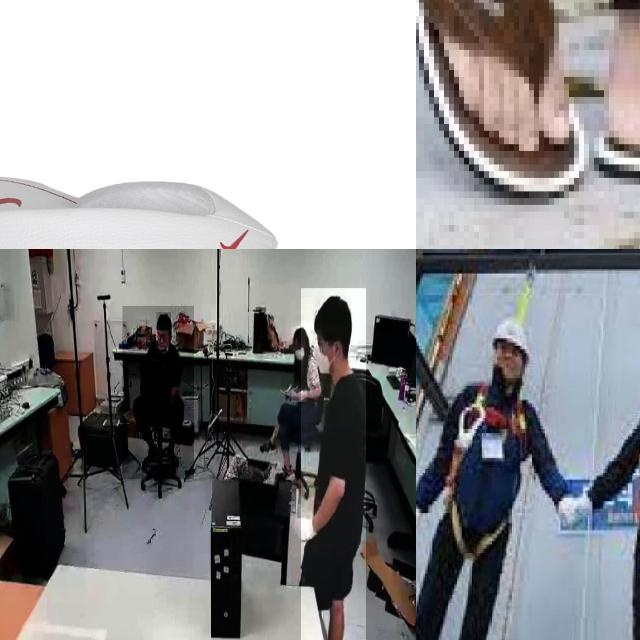Harness: (444, 378, 524, 564)
Sandals: (416, 0, 590, 200), (0, 173, 406, 249)
face_mask: (315, 332, 333, 385), (293, 337, 305, 365)
face_nomask: (156, 330, 170, 350)
glasses: (156, 328, 172, 342)
hand_glove: (294, 511, 318, 554)
hand_noglove: (291, 388, 307, 402)
head_nohelmet: (313, 295, 352, 328), (156, 312, 172, 329), (292, 326, 308, 338)
person: (301, 288, 366, 640), (122, 306, 194, 480), (257, 326, 322, 474)
shoes: (257, 432, 277, 458), (164, 444, 184, 469), (278, 462, 294, 487), (142, 445, 157, 464)
